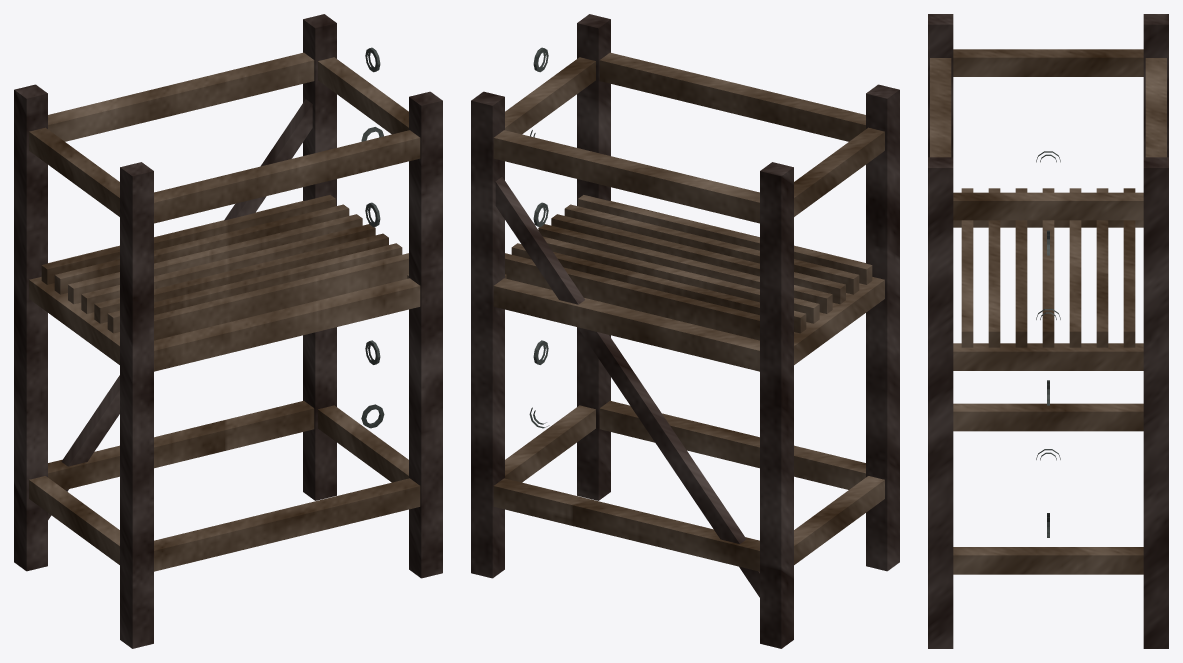
File: 0438_scaffolding_13.glb
The picture shows the model from 3 angles, left to right: view 1: azimuth 30°, elevation 25°; view 2: azimuth 150°, elevation 25°; view 3: azimuth 270°, elevation 25°; orthographic projection.
Parts seen in each view (by area): view 1: wood, wood_dark, iron; view 2: wood, wood_dark, iron; view 3: wood, wood_dark, iron.
Part boxes in pixels (x1,y1,x2,y2): wood: (29,52,420,571); wood_dark: (14,14,442,648); iron: (361,47,384,428); wood: (493,52,884,571); wood_dark: (471,14,899,648); iron: (529,47,549,428); wood: (930,49,1166,574); wood_dark: (928,14,1168,648); iron: (1036,151,1060,537).
Bounding box in the file's own units: 1.87 × 2.79 × 1.24.
Materials: 3 (3 with a texture image).
